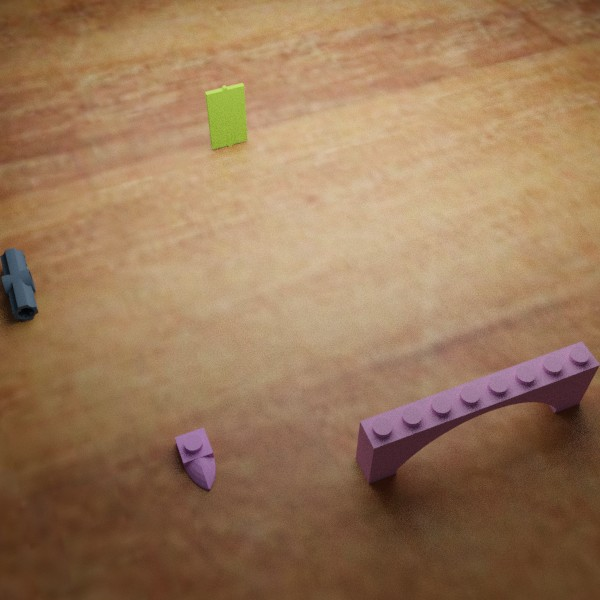lego: (355, 341, 600, 483), (0, 247, 38, 321), (205, 83, 247, 149), (174, 427, 215, 490)
